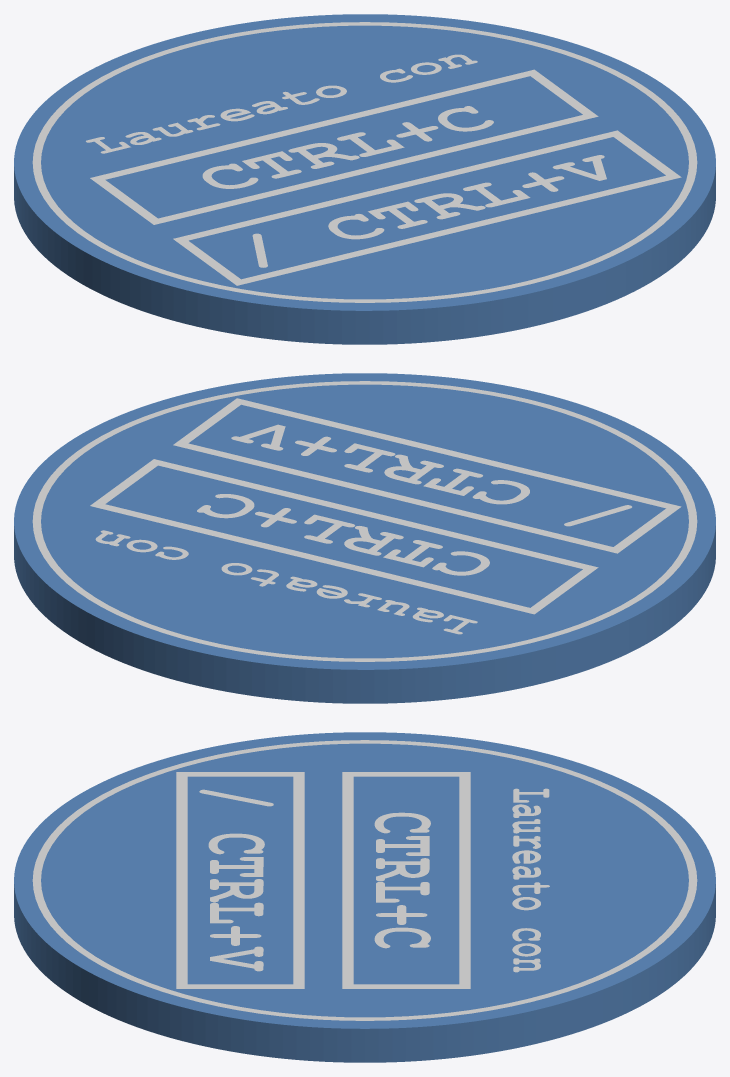
File: sottobicchiere-ctrl-c-ctrl-v.glb
The picture shows the model from 3 angles, top to bottom: view 1: azimuth 30°, elevation 25°; view 2: azimuth 150°, elevation 25°; view 3: azimuth 270°, elevation 25°; orthographic projection.
Parts seen in each view (by area): view 1: coaster_base, coaster_ink; view 2: coaster_base, coaster_ink; view 3: coaster_base, coaster_ink.
Part boxes in pixels (left/top/right/bottom): coaster_base: left=14, top=14, right=715, bottom=344; coaster_ink: left=32, top=22, right=697, bottom=302; coaster_base: left=14, top=373, right=715, bottom=703; coaster_ink: left=32, top=381, right=697, bottom=661; coaster_base: left=14, top=732, right=715, bottom=1062; coaster_ink: left=32, top=740, right=697, bottom=1020.
Bounding box in the file's own units: 0.075 × 0.004 × 0.075.
